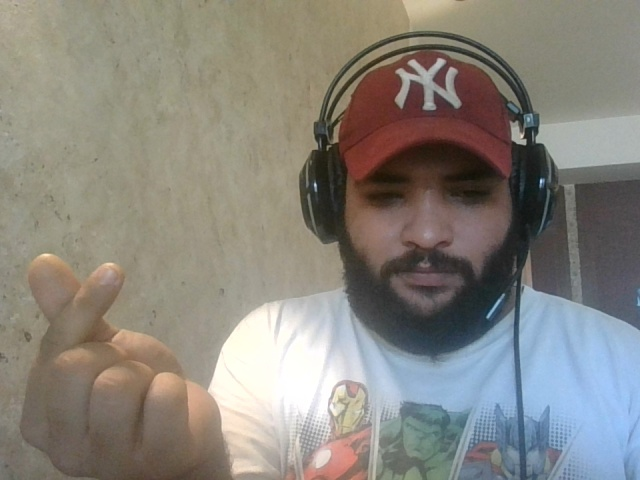iloveyou: (18, 253, 230, 470)
